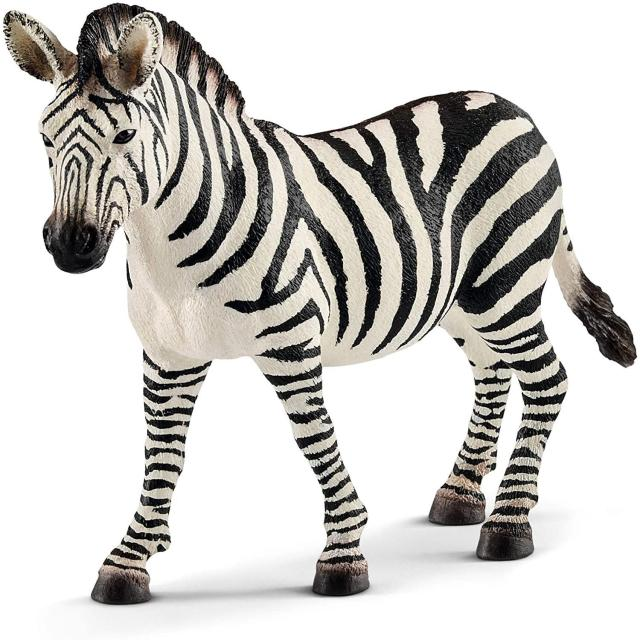Zebra: (1, 11, 580, 601)
